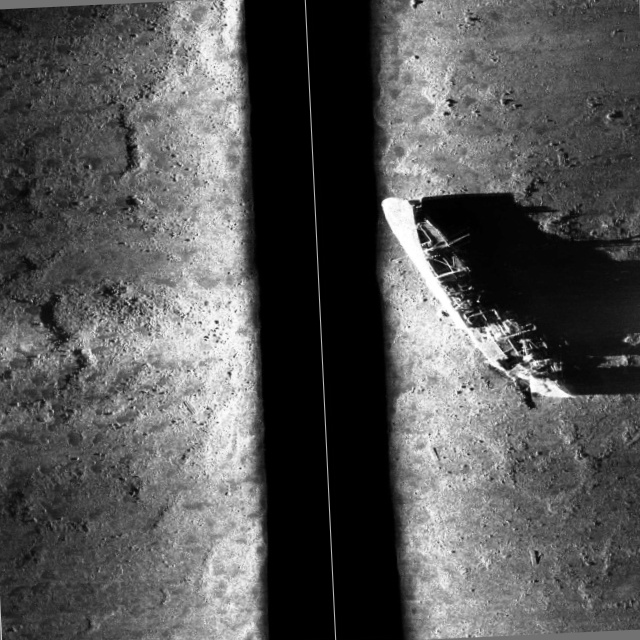Shipwreck: (173, 152, 586, 582)
